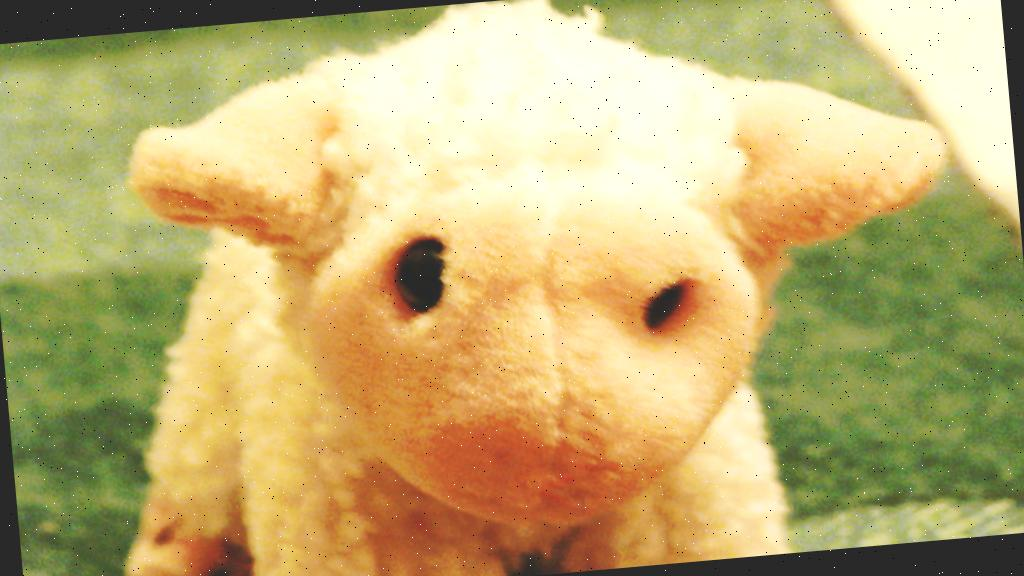Sheep: (77, 0, 983, 576)
